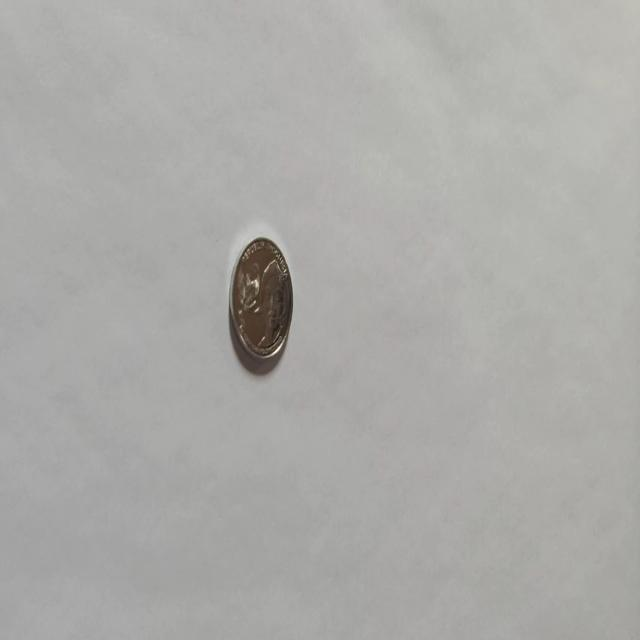dua ratus rupiah: (228, 234, 294, 364)
